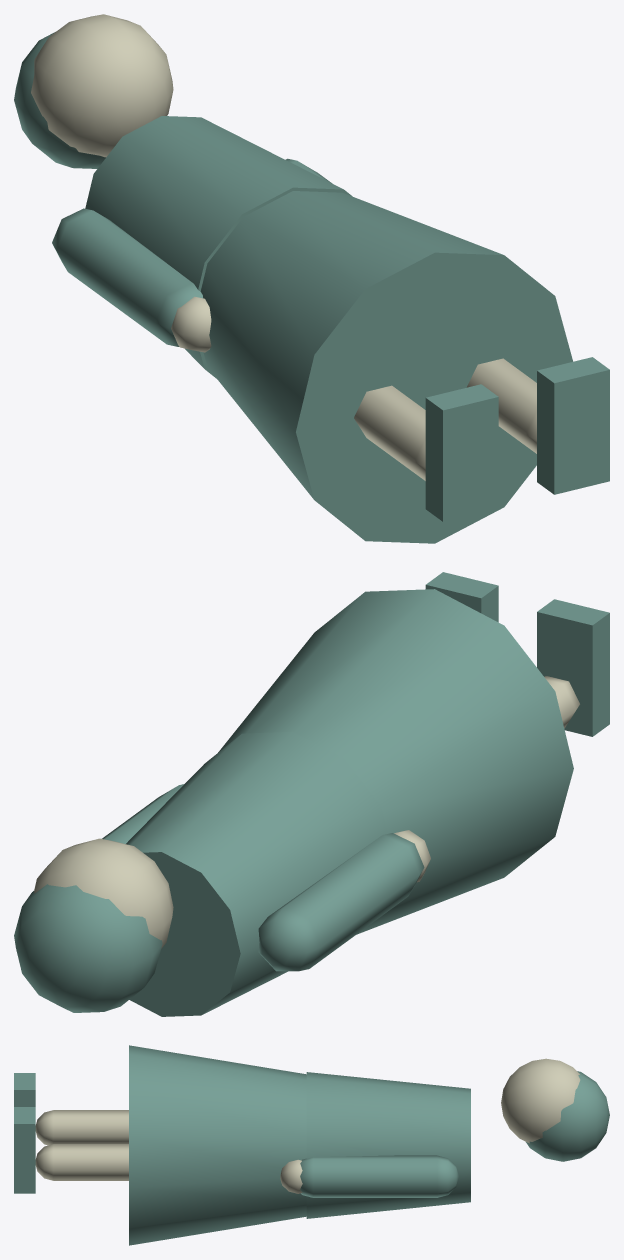
File: proxy-reclined-r1.glb
The picture shows the model from 3 angles, top to bottom: view 1: azimuth 30°, elevation 25°; view 2: azimuth 150°, elevation 25°; view 3: azimuth 270°, elevation 25°; orthographic projection. The views are drawn at different scales.
Visible parts, largest first — view 1: Group (×4); view 2: Group (×5); view 3: Group (×4).
Part boxes in pixels (<box>): Group (×4): <box>14,14,609,543</box>; Group (×5): <box>14,572,609,1016</box>; Group (×4): <box>14,1045,609,1245</box>.
Bounding box in the file's own units: 0.6 × 0.6 × 1.78.
